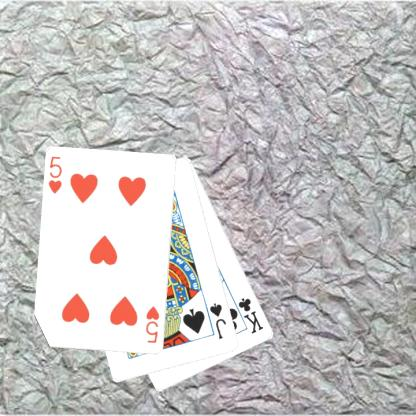5H: (143, 304, 161, 345), (46, 154, 64, 195)
JS: (207, 300, 228, 340)
KC: (230, 295, 266, 335)
